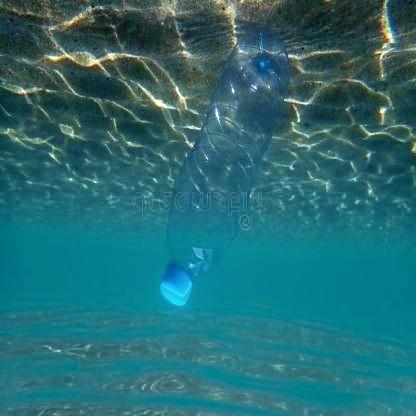pbottle: (152, 19, 292, 314)
